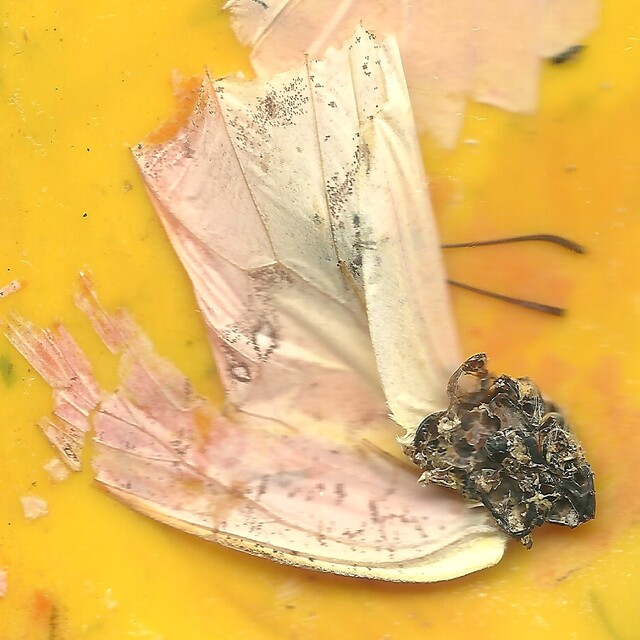Lepidoptera: (39, 46, 601, 594)
